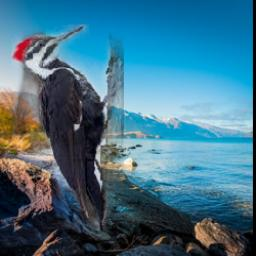Woodpecker: (11, 24, 124, 231)
